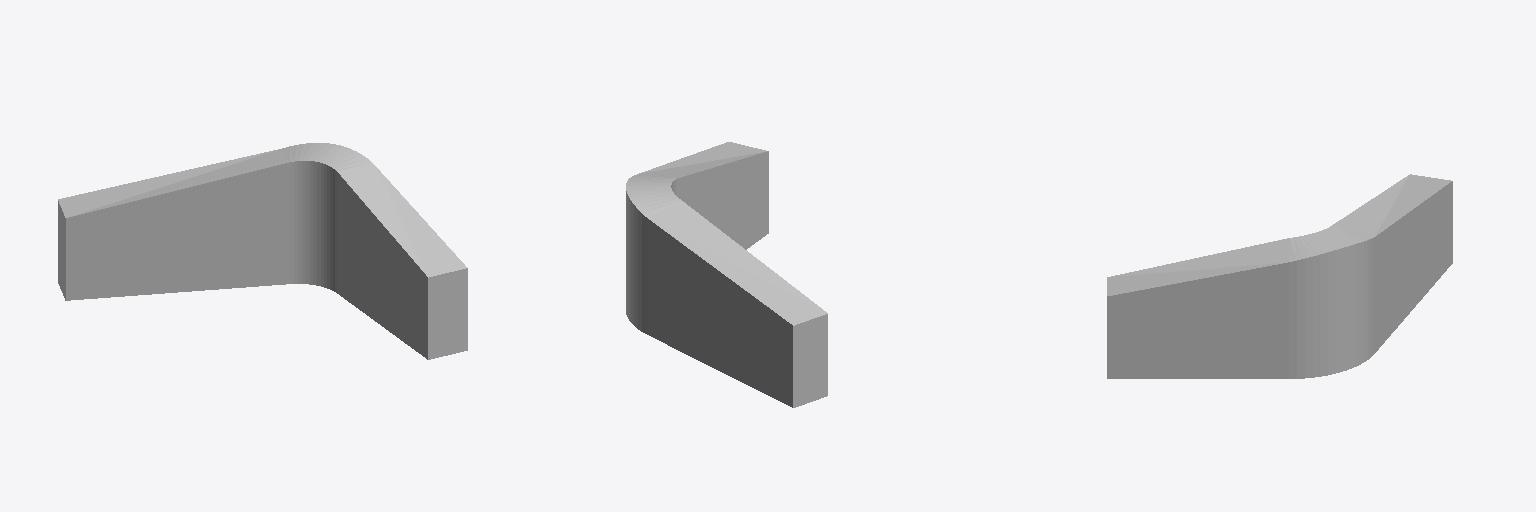
The model's file is guideRailLeft.obj.
3 renders of one model, left to right at view 1: azimuth 30°, elevation 25°; view 2: azimuth 150°, elevation 25°; view 3: azimuth 270°, elevation 25°, orthographic.
Parts seen in each view (by area): view 1: EntryGuide.005_Cube.105; view 2: EntryGuide.005_Cube.105; view 3: EntryGuide.005_Cube.105.
Boxes of the visible parts, x1=… form: EntryGuide.005_Cube.105: x1=58, y1=143, x2=467, y2=359; EntryGuide.005_Cube.105: x1=626, y1=142, x2=827, y2=407; EntryGuide.005_Cube.105: x1=1107, y1=174, x2=1452, y2=378.
Size of the model in its own units: 3.18 by 1.5 by 3.79.